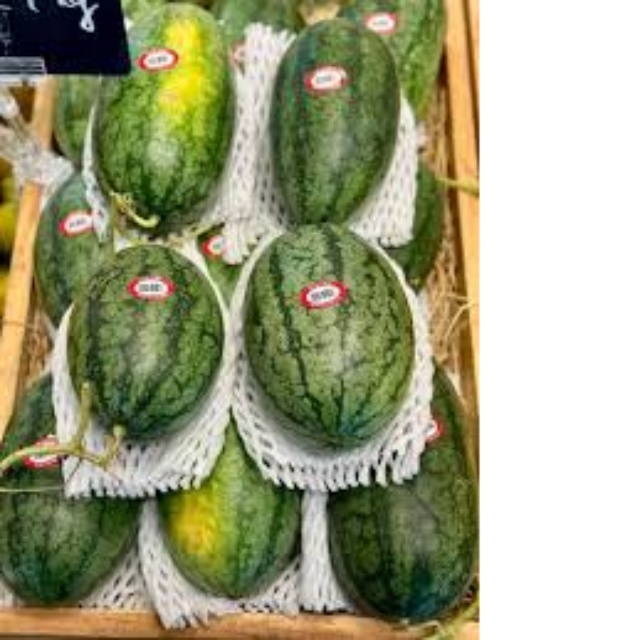dua_hau: (316, 363, 480, 627), (243, 229, 415, 458), (92, 7, 237, 231), (64, 248, 226, 445), (4, 377, 128, 603), (267, 20, 402, 227), (156, 431, 309, 599), (33, 171, 115, 319)
